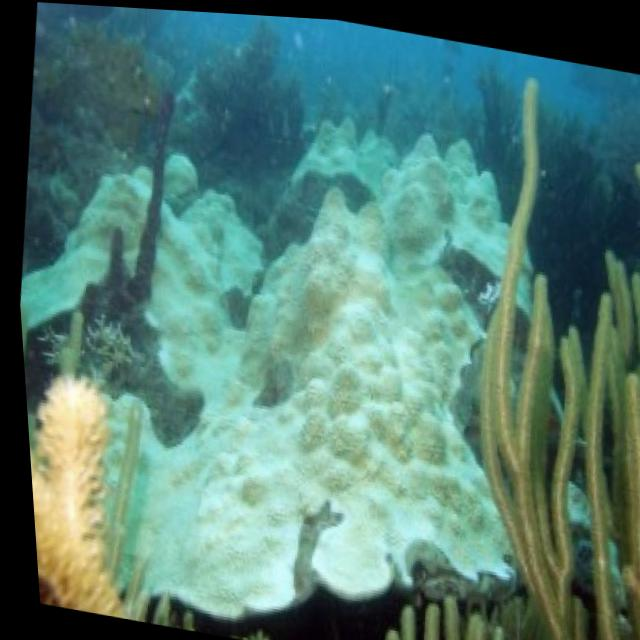Bleached Coral: (43, 49, 537, 635)
